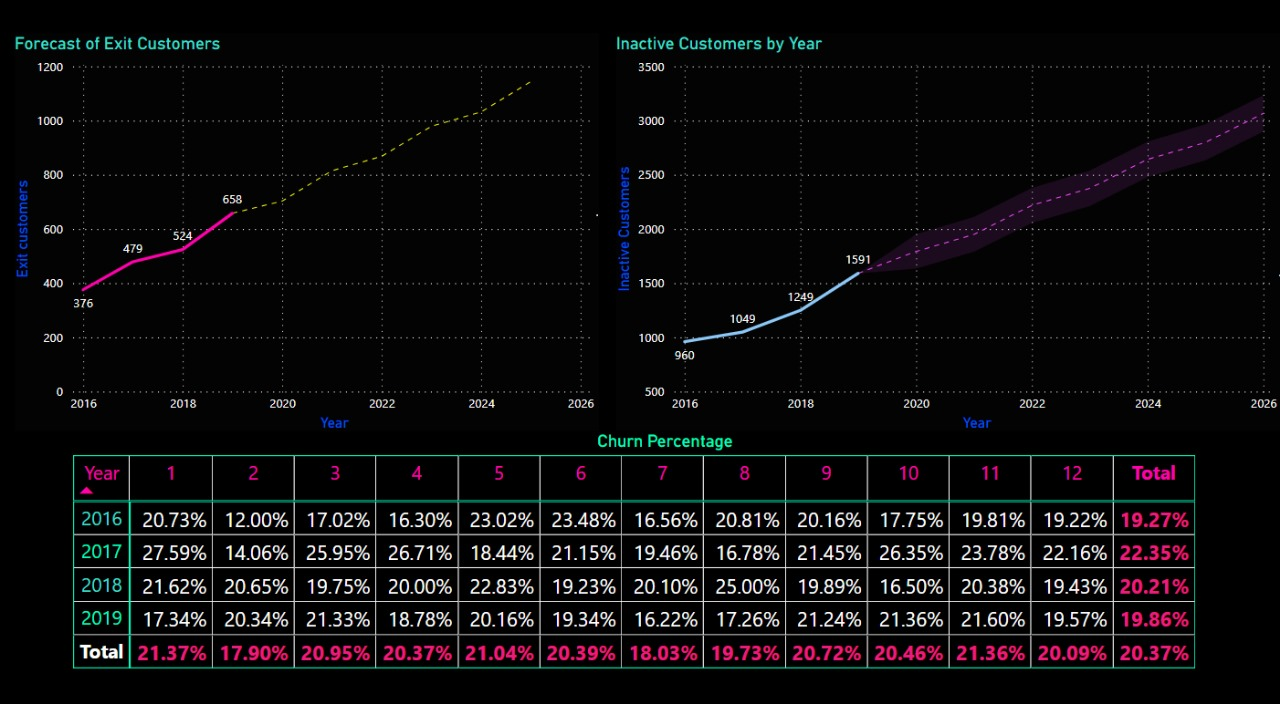

What the dashboard file says about the page in this screenshot:
{"tool":"powerbi","page":{"name":"Page 2","canvas":[1280,720],"ordinal":1},"visuals":[{"type":"pivotTable","title":"Churn Percentage","fields":{"Rows":["DateMaster.Year"],"Columns":["DateMaster.Month"],"Values":["Calculation.churn %"]},"box":[71.1,426.8,1181.1,293.6],"z":0},{"type":"lineChart","title":"Forecast of Exit Customers","fields":{"Category":["DateMaster.Year"],"Y":["Calculation.Exit customers"]},"box":[18.1,32.7,578.1,394.1],"z":1000},{"type":"lineChart","fields":{"Category":["DateMaster.Year"],"Y":["Calculation.Inactive Customers"]},"box":[613.1,32.7,659.4,394.1],"z":2000}]}

Visuals, with their boxes in screenshot pixels (x1, y1, x2, y2), scaled from the page's 1280x720 canvas onto the 1280x704 screenshot:
"Churn Percentage" pivotTable: (71, 417, 1252, 703)
"Forecast of Exit Customers" lineChart: (18, 32, 596, 417)
lineChart - DateMaster.Year x Calculation.Inactive Customers: (613, 32, 1272, 417)
